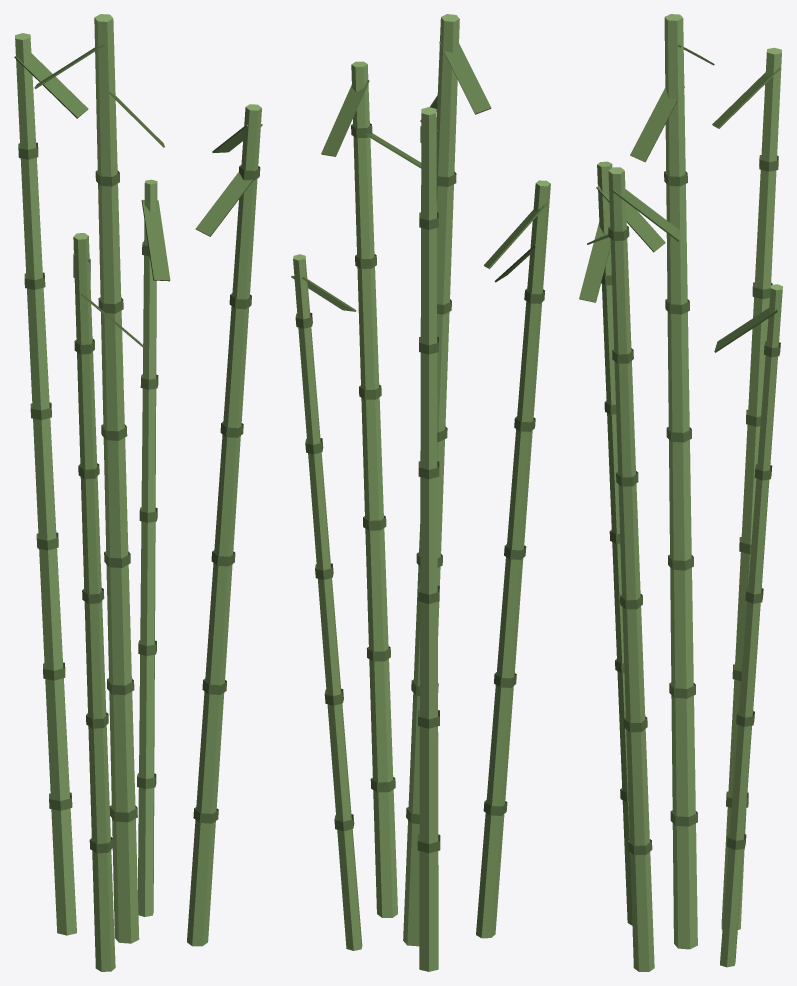
Rendered from sakura_garden_bamboo_cluster.glb.
The picture shows the model from 3 angles, left to right: view 1: azimuth 30°, elevation 25°; view 2: azimuth 150°, elevation 25°; view 3: azimuth 270°, elevation 25°; orthographic projection. The views are drawn at different scales.
Parts seen in each view (by area): view 1: sakura_garden_bamboo_cluster; view 2: sakura_garden_bamboo_cluster; view 3: sakura_garden_bamboo_cluster.
Boxes of the visible parts, x1,y1,x2,y2 form: sakura_garden_bamboo_cluster: (14,14,262,971); sakura_garden_bamboo_cluster: (291,14,550,971); sakura_garden_bamboo_cluster: (579,14,782,971).
Bounding box in the file's own units: 0.6245 × 2.9 × 0.5867.
Materials: 1 (1 with a texture image).
